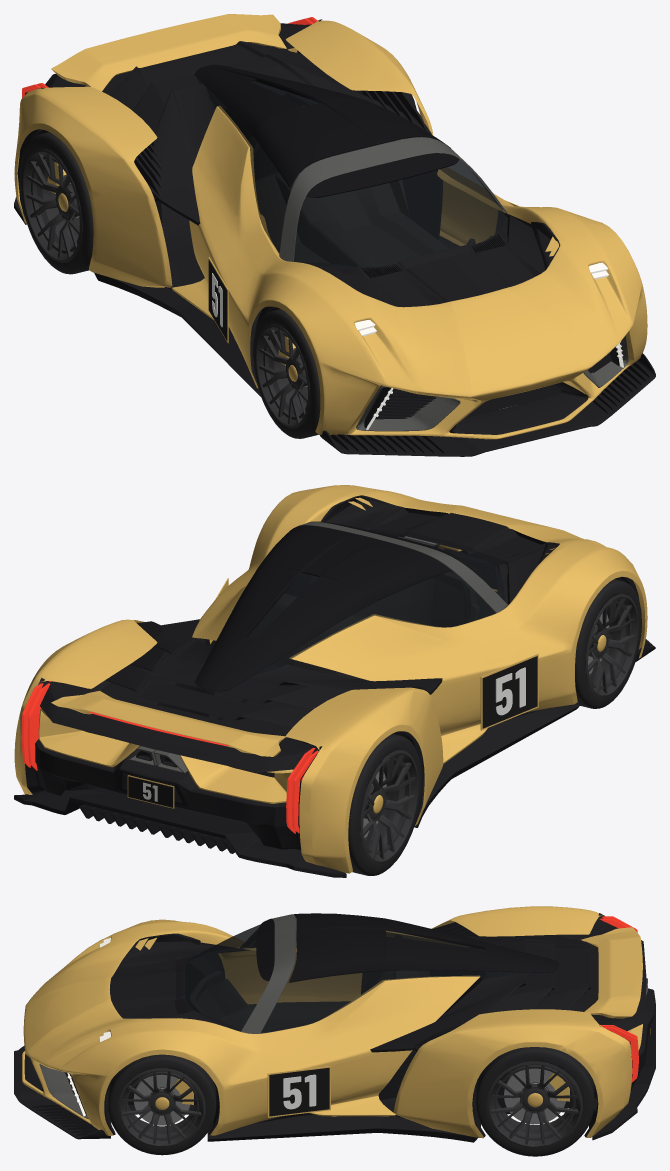
The model's file is surge-lmp.glb.
3 renders of one model, top to bottom at view 1: azimuth 30°, elevation 25°; view 2: azimuth 150°, elevation 25°; view 3: azimuth 270°, elevation 25°, orthographic. The views are drawn at different scales.
Visible parts, largest first — view 1: Body, Wheel_RR, Wheel_FR; view 2: Body, Wheel_RR, Wheel_FR; view 3: Body, Wheel_RL, Wheel_FL.
Part boxes in pixels (box(x1,y1,x2,y2)): Body: box(14, 14, 655, 456); Wheel_RR: box(19, 132, 93, 274); Wheel_FR: box(253, 309, 320, 438); Body: box(14, 485, 655, 877); Wheel_RR: box(348, 733, 422, 875); Wheel_FR: box(575, 579, 641, 708); Body: box(14, 906, 655, 1142); Wheel_RL: box(476, 1047, 594, 1156); Wheel_FL: box(108, 1054, 216, 1155).
Bounding box in the file's own units: 2.44 × 1.33 × 4.85.
Materials: 6 (3 with a texture image).
